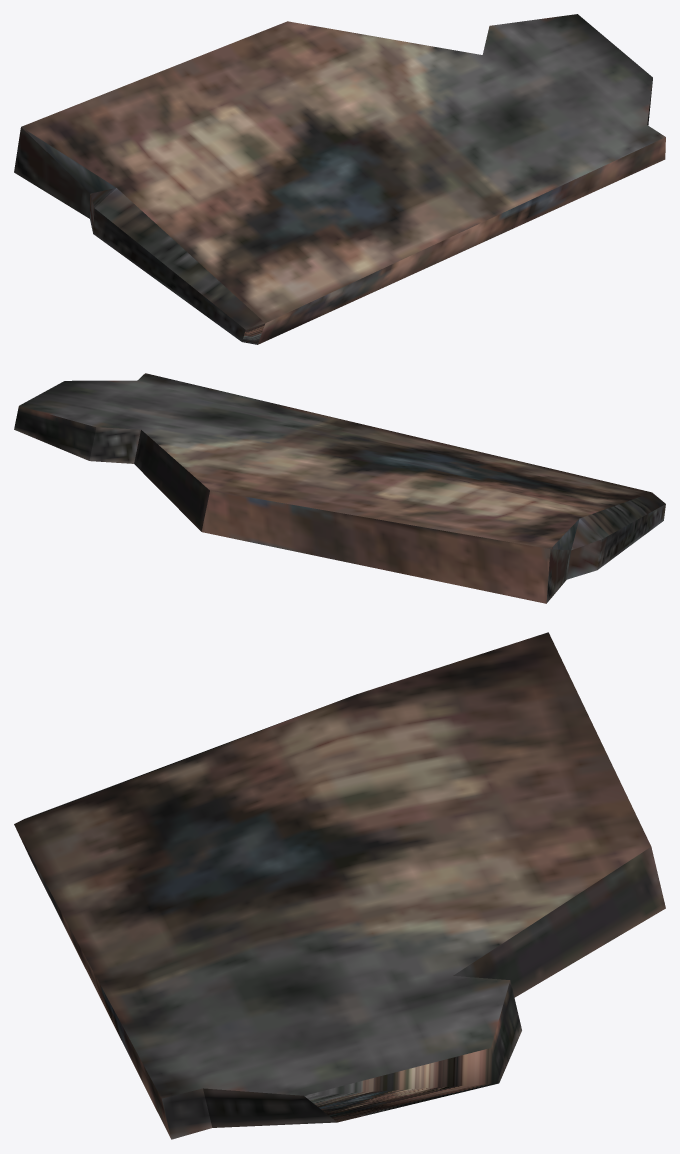
The model's file is debris_tradefed_hulk_radial_s04_l3.fbx.
3 renders of one model, top to bottom at view 1: azimuth 30°, elevation 25°; view 2: azimuth 150°, elevation 25°; view 3: azimuth 270°, elevation 25°, orthographic. The views are drawn at different scales.
Parts seen in each view (by area): view 1: mesh_node; view 2: mesh_node; view 3: mesh_node.
Part boxes in pixels (x1,y1,x2,y2): mesh_node: [14, 14, 665, 344]; mesh_node: [14, 373, 665, 603]; mesh_node: [14, 632, 665, 1139].
Bounding box in the file's own units: 4.93 × 1.04 × 3.23.
Materials: 1 (1 with a texture image).
